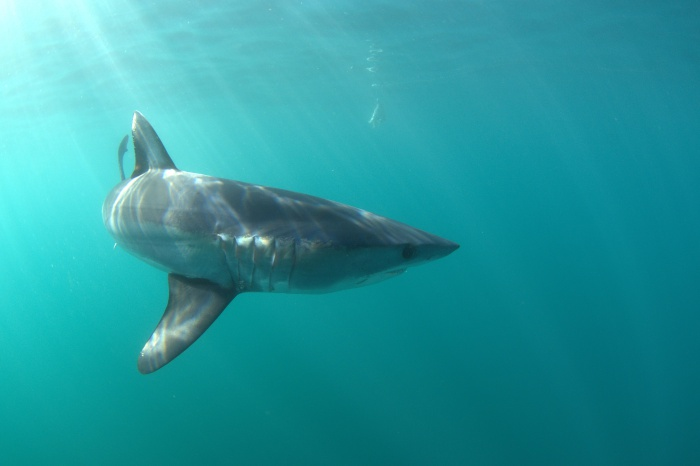Mako: (83, 102, 497, 382)
